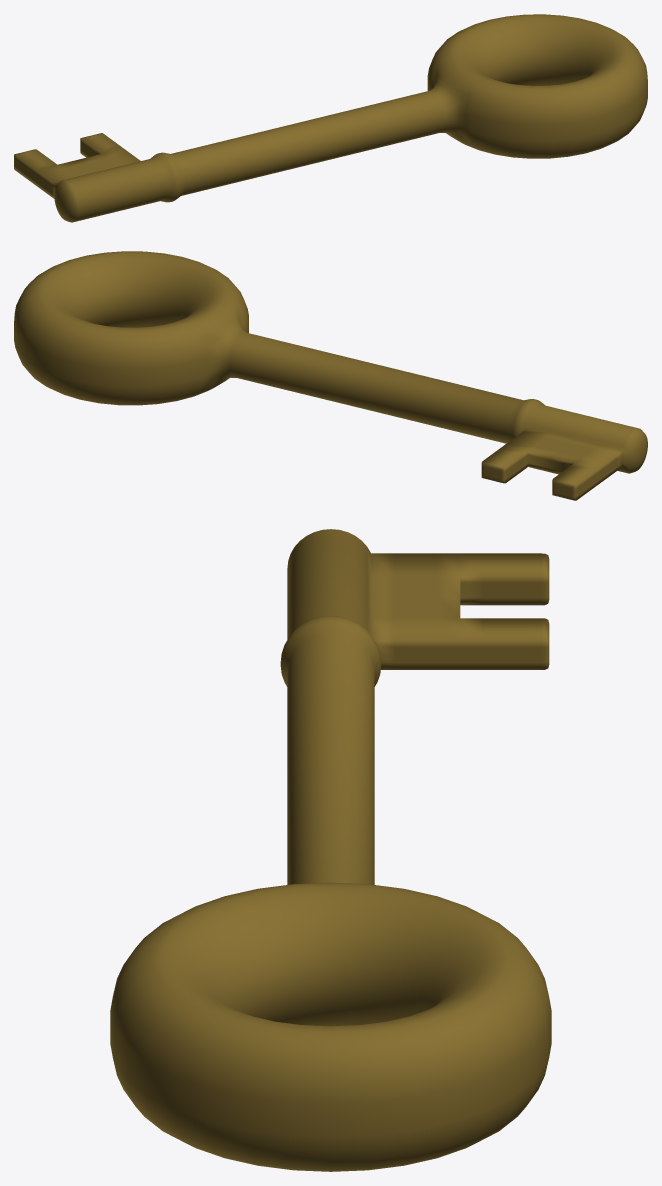
File: the_golden_key.glb
3 renders of one model, top to bottom at view 1: azimuth 30°, elevation 25°; view 2: azimuth 150°, elevation 25°; view 3: azimuth 270°, elevation 25°, orthographic. The views are drawn at different scales.
Visible parts, largest first — view 1: Circle; view 2: Circle; view 3: Circle.
Boxes of the visible parts, left/top/right/bottom form: Circle: left=14, top=14, right=647, bottom=222; Circle: left=14, top=251, right=647, bottom=500; Circle: left=110, top=529, right=551, bottom=1171.
Bounding box in the file's own units: 600 × 69.99 × 200.
